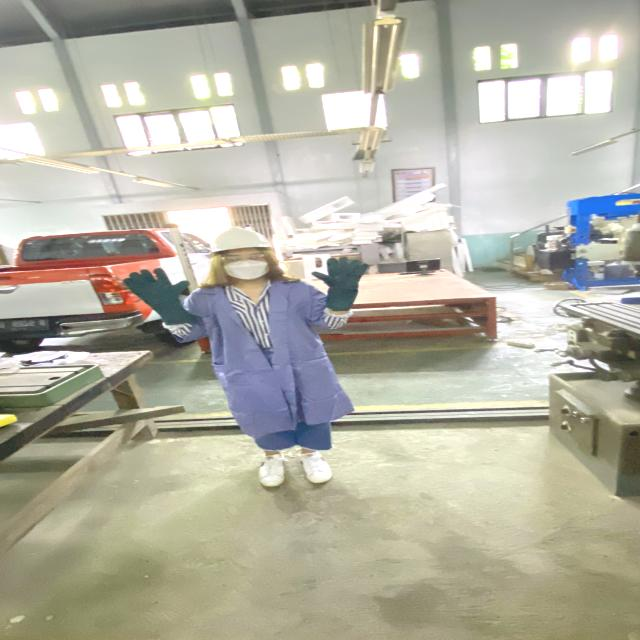face_mask: (218, 250, 270, 278)
glasses: (218, 253, 268, 263)
hand_glove: (120, 266, 197, 308), (308, 256, 371, 290)
head_helmet: (208, 224, 281, 252)
person: (116, 225, 373, 494)
shoes: (246, 452, 292, 492), (295, 447, 340, 487)
